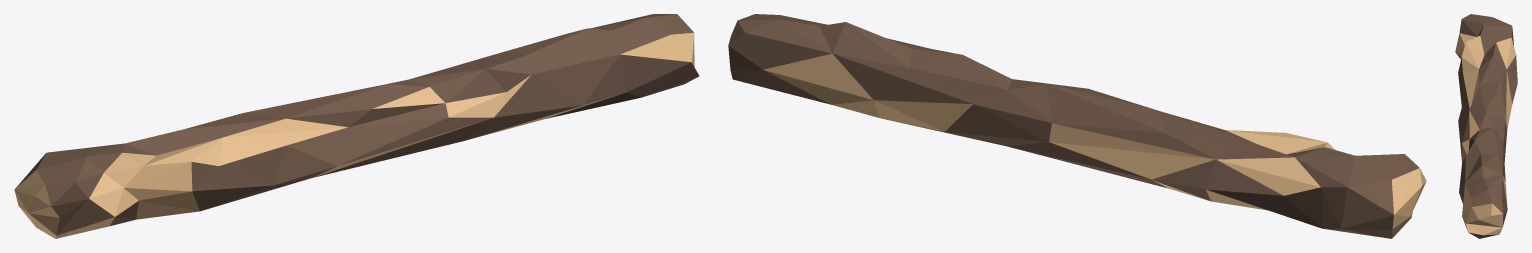
Rendered from wood 3.glb.
The picture shows the model from 3 angles, left to right: view 1: azimuth 30°, elevation 25°; view 2: azimuth 150°, elevation 25°; view 3: azimuth 270°, elevation 25°; orthographic projection. The views are drawn at different scales.
Parts seen in each view (by area): view 1: Cube; view 2: Cube; view 3: Cube.
Part boxes in pixels (x1,y1,x2,y2): Cube: (14,14,699,238); Cube: (728,14,1426,238); Cube: (1455,14,1517,238).
Bounding box in the file's own units: 2.07 × 0.2393 × 0.2844.
